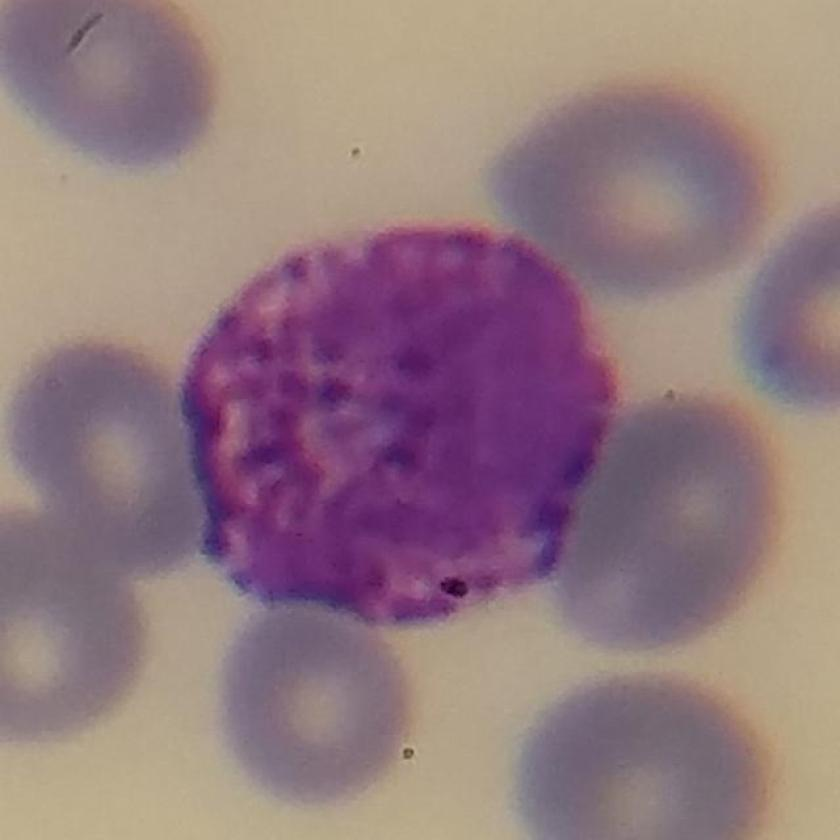basophil: (181, 213, 628, 633)
